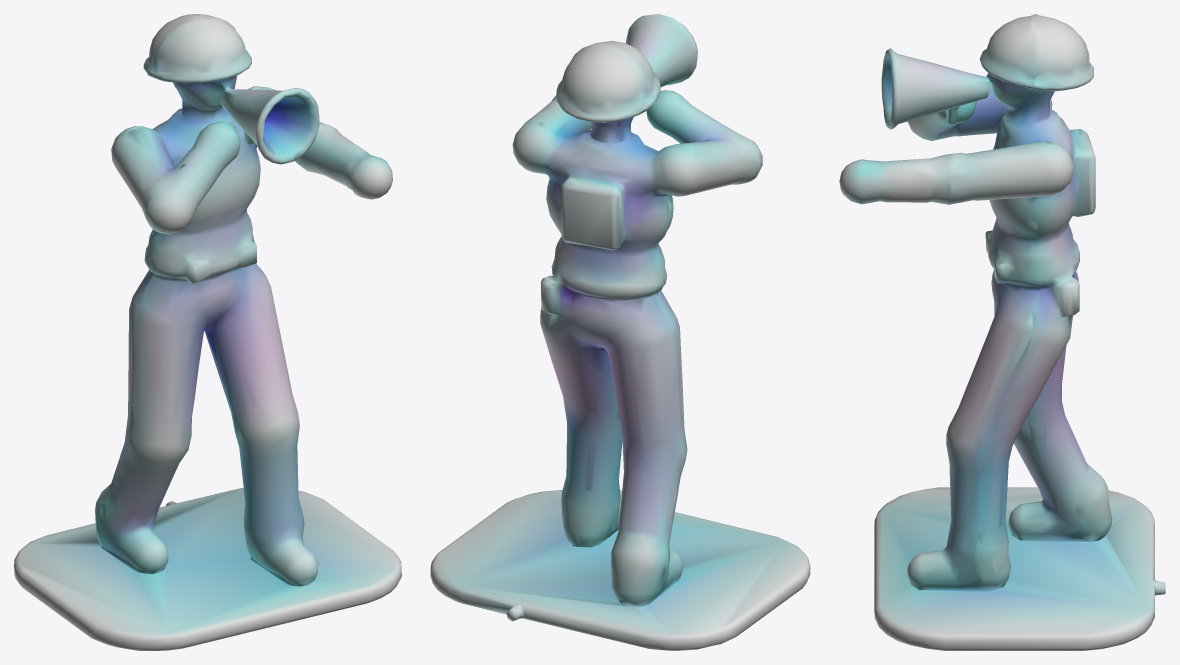
Rendered from general-lod1.glb.
3 renders of one model, left to right at view 1: azimuth 30°, elevation 25°; view 2: azimuth 150°, elevation 25°; view 3: azimuth 270°, elevation 25°, orthographic. The views are drawn at different scales.
Visible parts, largest first — view 1: general-lod1; view 2: general-lod1; view 3: general-lod1.
Part boxes in pixels (left/top/right/bottom): general-lod1: left=14, top=14, right=401, bottom=650; general-lod1: left=430, top=14, right=810, bottom=650; general-lod1: left=839, top=14, right=1165, bottom=650.
Size of the model in its own units: 0.4599 by 0.7913 by 0.4186.
